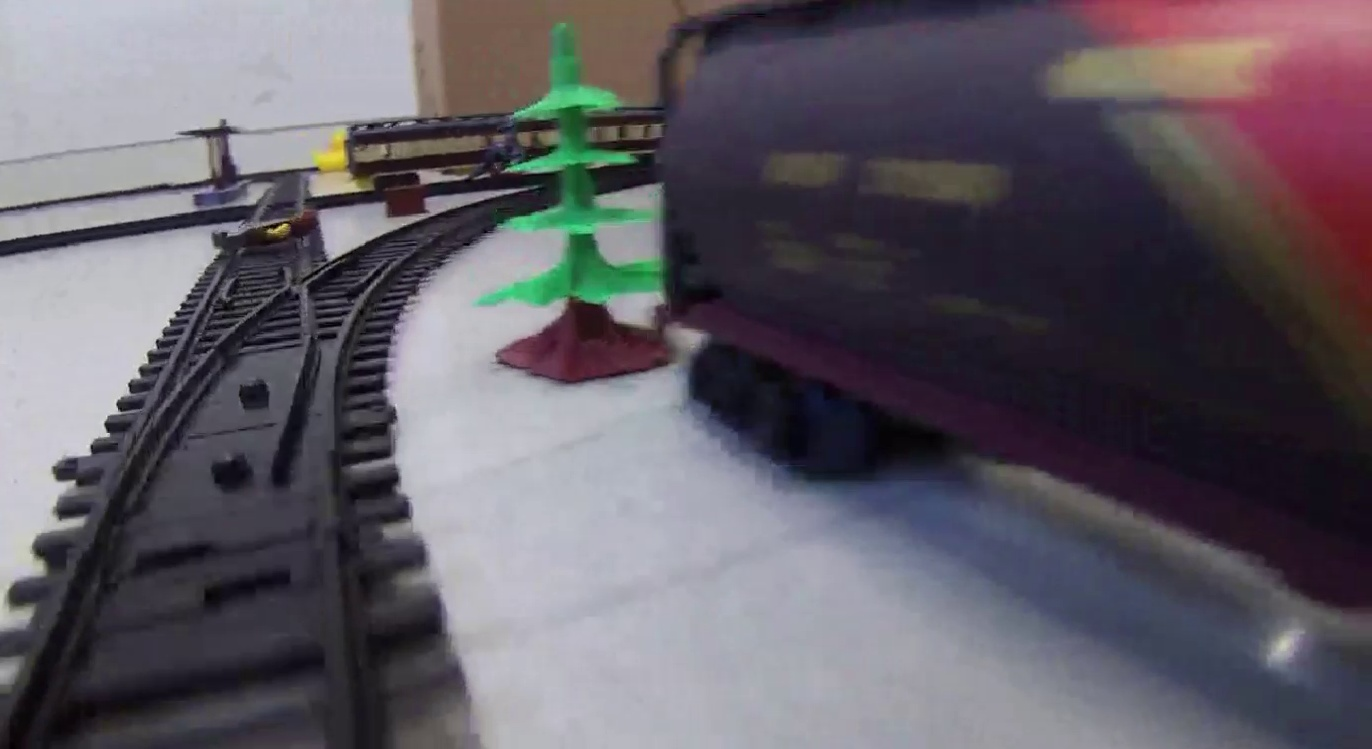box: (382, 183, 429, 218)
people: (210, 208, 322, 253)
tree: (482, 18, 661, 380)
